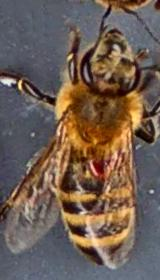varroa_mite: (78, 150, 119, 184)
